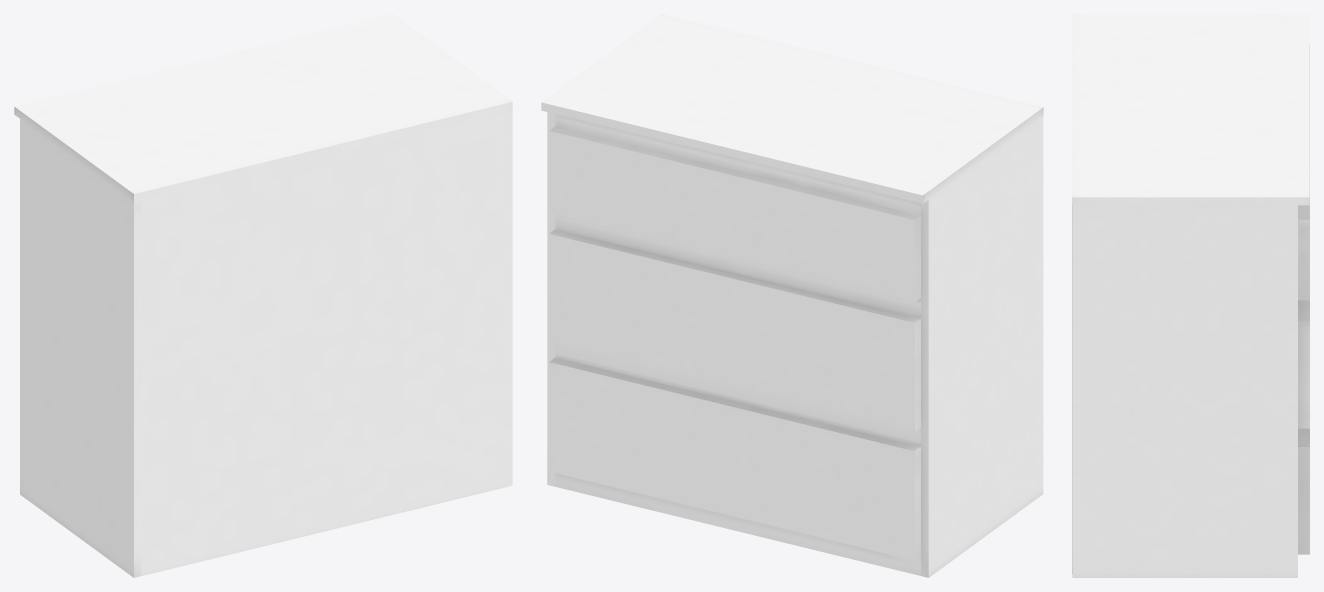
File: ChestOfDrawersShapes.glb
3 renders of one model, left to right at view 1: azimuth 30°, elevation 25°; view 2: azimuth 150°, elevation 25°; view 3: azimuth 270°, elevation 25°, orthographic.
Parts seen in each view (by area): view 1: ChestOfDrawersShapes; view 2: ChestOfDrawersShapes; view 3: ChestOfDrawersShapes.
Part boxes in pixels (x1,y1,x2,y2): ChestOfDrawersShapes: (14, 14, 512, 577); ChestOfDrawersShapes: (541, 14, 1043, 577); ChestOfDrawersShapes: (1072, 14, 1309, 577).
Size of the model in its own units: 0.73 by 0.7072 by 0.4005.
Materials: 1 (1 with a texture image).
